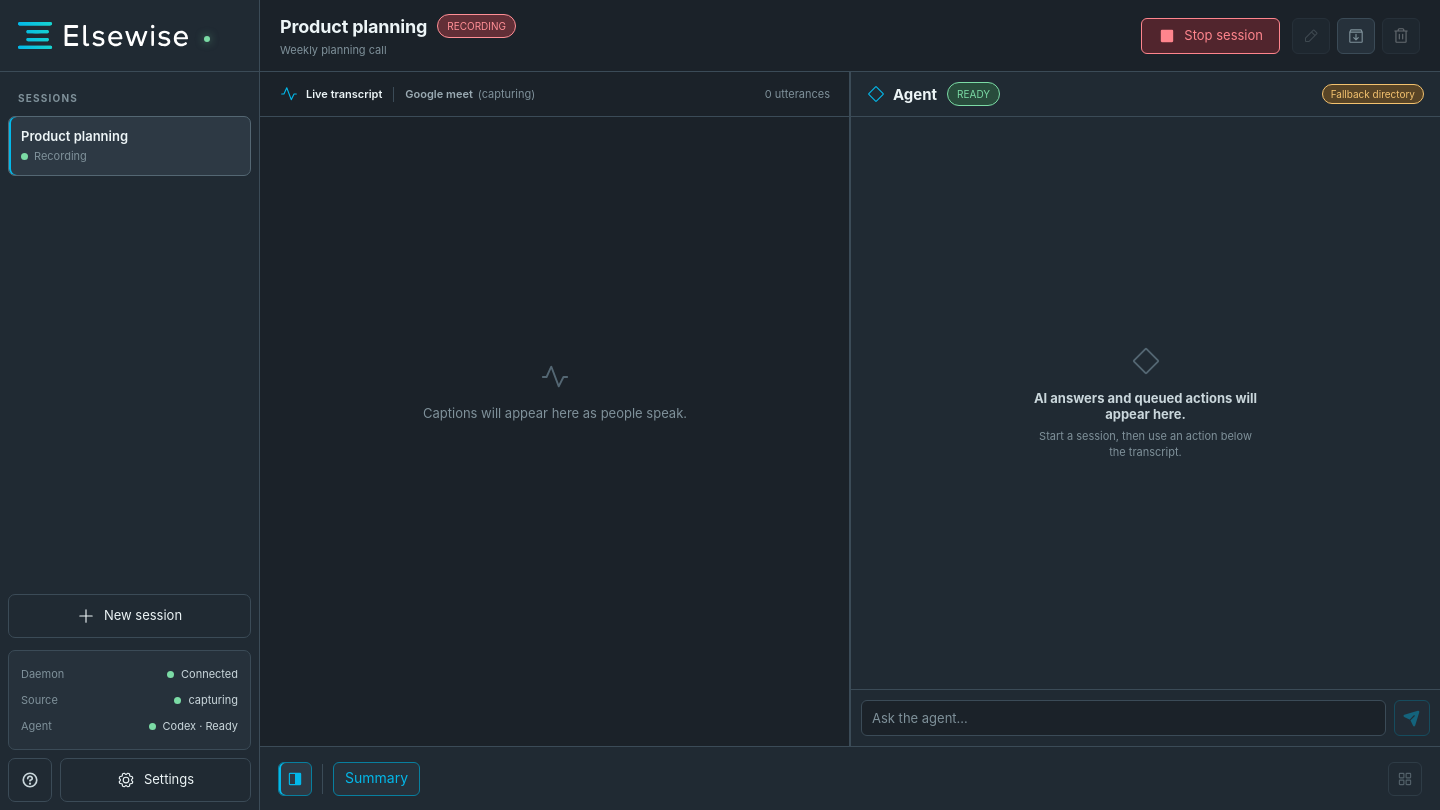
App content › exports Markdown and shows the exact result directory
The image size is (1440, 810).
Check: the heading "Product planning" is shown, box [280, 16, 427, 36]
Click the button named "Export Markdown" at (1356, 36), box [1337, 18, 1375, 54]
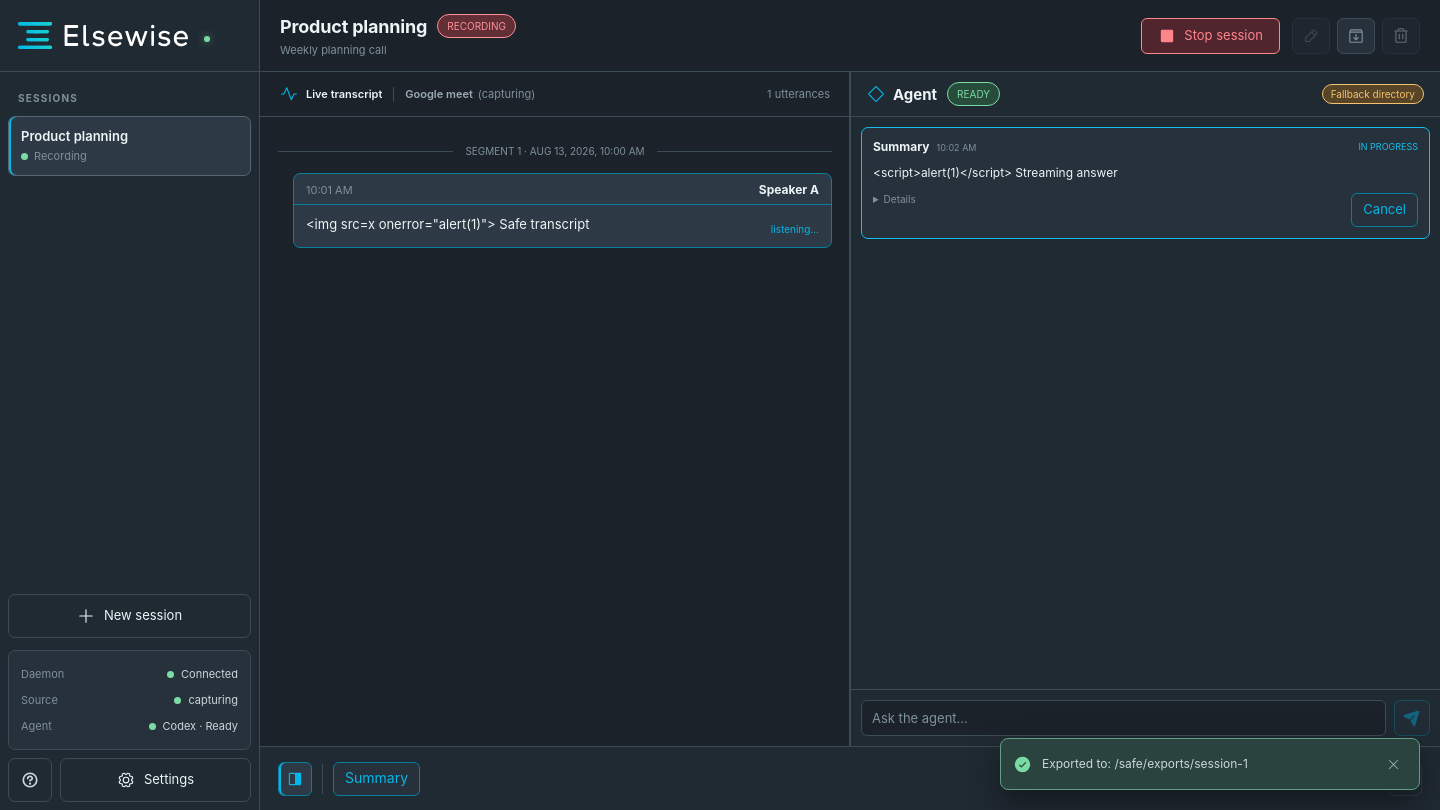
Check: the text "Exported to: /safe/exports/session-1" is shown, box [1042, 756, 1248, 771]
